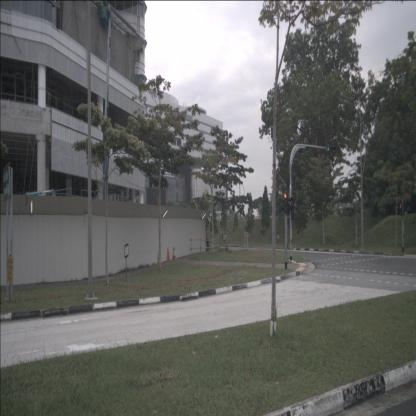human-pedestrian-adult: (204, 228, 209, 251)
movable_object-trafficcone: (172, 246, 177, 260), (167, 248, 171, 262)
